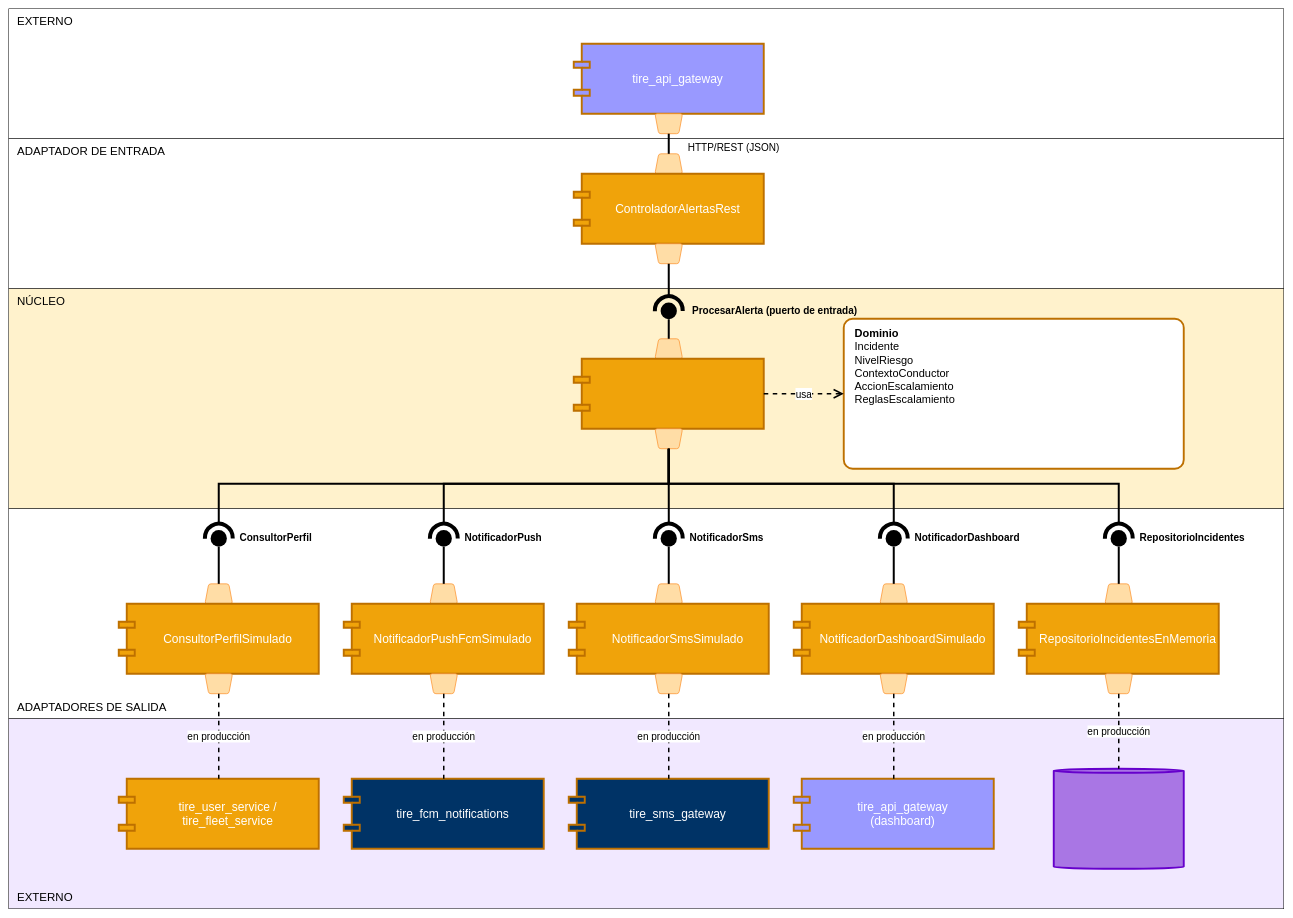
This 1293x918 diagram has some shape labels left out. Here are the shapes that lost their labels. From the top down, the centre of each, then its label:
At pixel 668 393: "ServicioEscalamiento".
At pixel 1118 818: "tire_alert_db".
